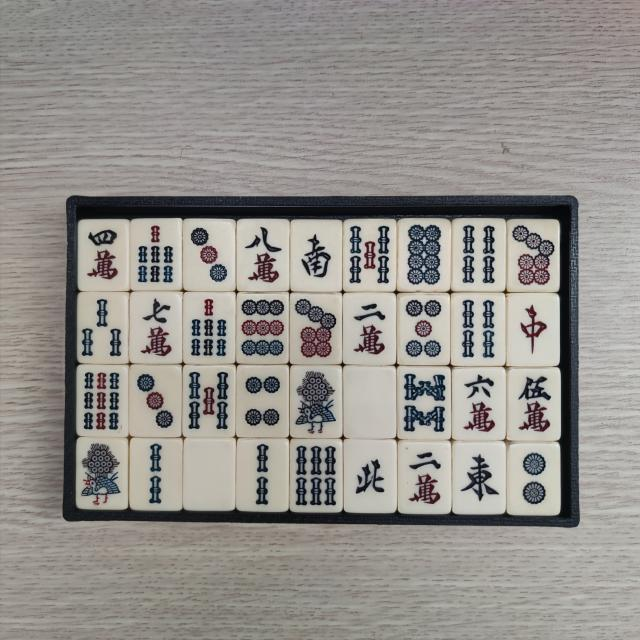hdr: (512, 298, 554, 362)
hdw: (348, 371, 392, 434), (190, 444, 232, 505)
hwe: (456, 446, 501, 509)
hwn: (349, 446, 392, 509)
hws: (296, 224, 338, 288)
sb1: (294, 368, 340, 436), (80, 442, 124, 507)
sb2: (241, 442, 283, 510), (134, 443, 177, 508)
sb3: (78, 298, 124, 361)
sb4: (457, 297, 502, 362), (458, 222, 502, 288)
sb5: (188, 366, 233, 432), (347, 222, 393, 286)
sb6: (296, 446, 341, 511)
sb7: (136, 222, 180, 286), (188, 296, 232, 359)
sb8: (402, 370, 448, 436)
sb9: (82, 370, 124, 432)
sc2: (402, 447, 447, 510), (347, 297, 391, 360)
sc4: (84, 223, 124, 286)
sc5: (512, 374, 556, 438)
sc6: (459, 370, 502, 436)
sc7: (136, 296, 178, 360)
sc8: (242, 223, 287, 288)
sd2: (512, 447, 555, 511)
sd3: (133, 369, 177, 434), (188, 223, 232, 287)
sd4: (242, 372, 286, 436)
sd5: (402, 298, 446, 362)
sd7: (294, 298, 340, 362), (512, 224, 557, 288)
sd8: (402, 223, 447, 288)
sd9: (242, 298, 288, 362)
